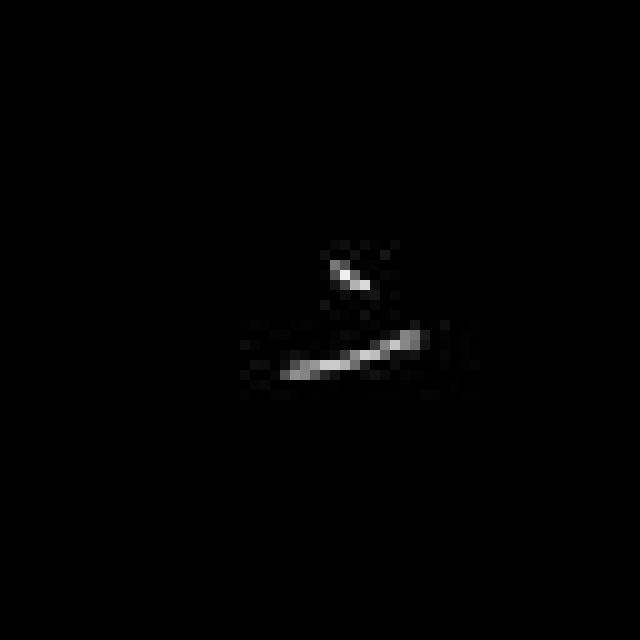2 -two-: (273, 245, 431, 400)
